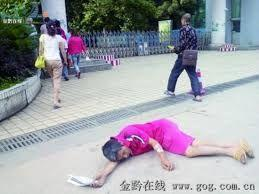Fall-Detected: (62, 110, 253, 183)
